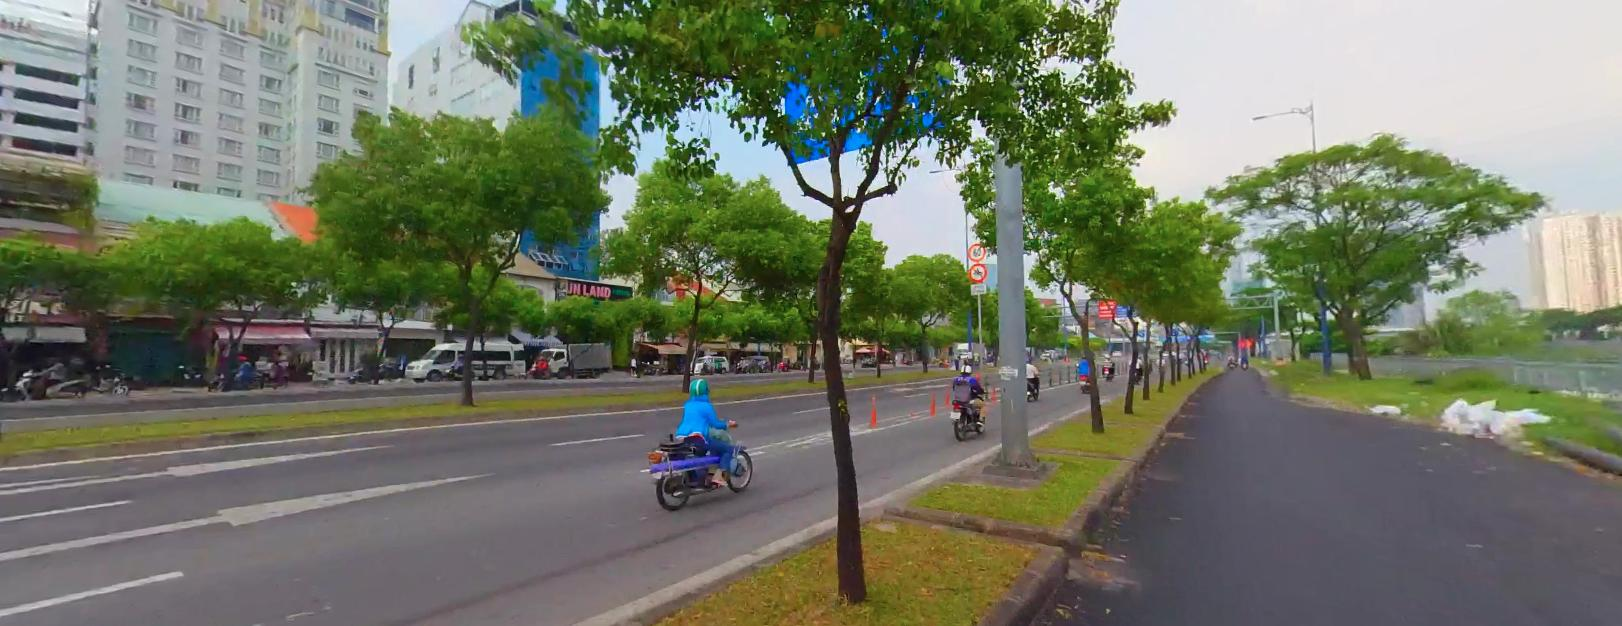Cam con lai: (968, 262, 986, 281)
Gioi han toc do: (967, 242, 984, 260)
